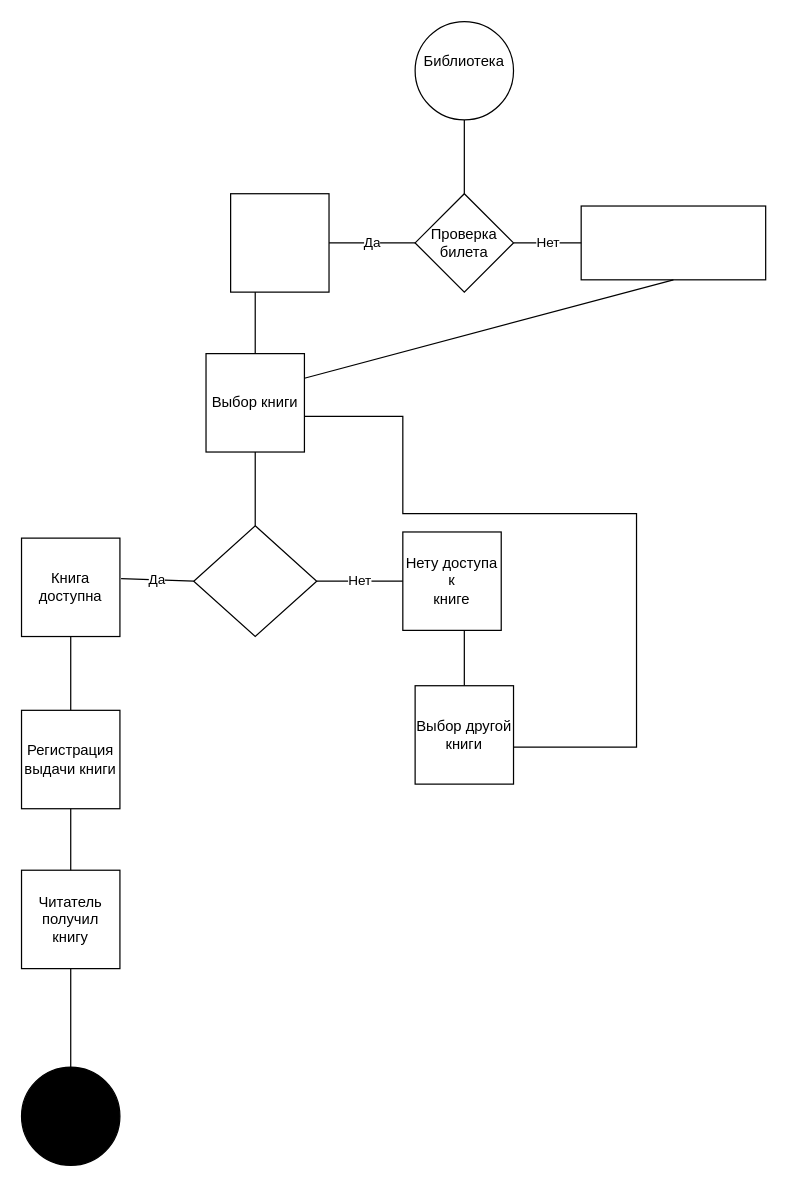
This 787x1187 diagram has some shape labels left out. Each missing label, with the centre of its shape:
Билет в Наличии: (279,242)
Доступность книги: (254,581)
Конец процесса: (70,1115)
Оформление билета: (673,242)
